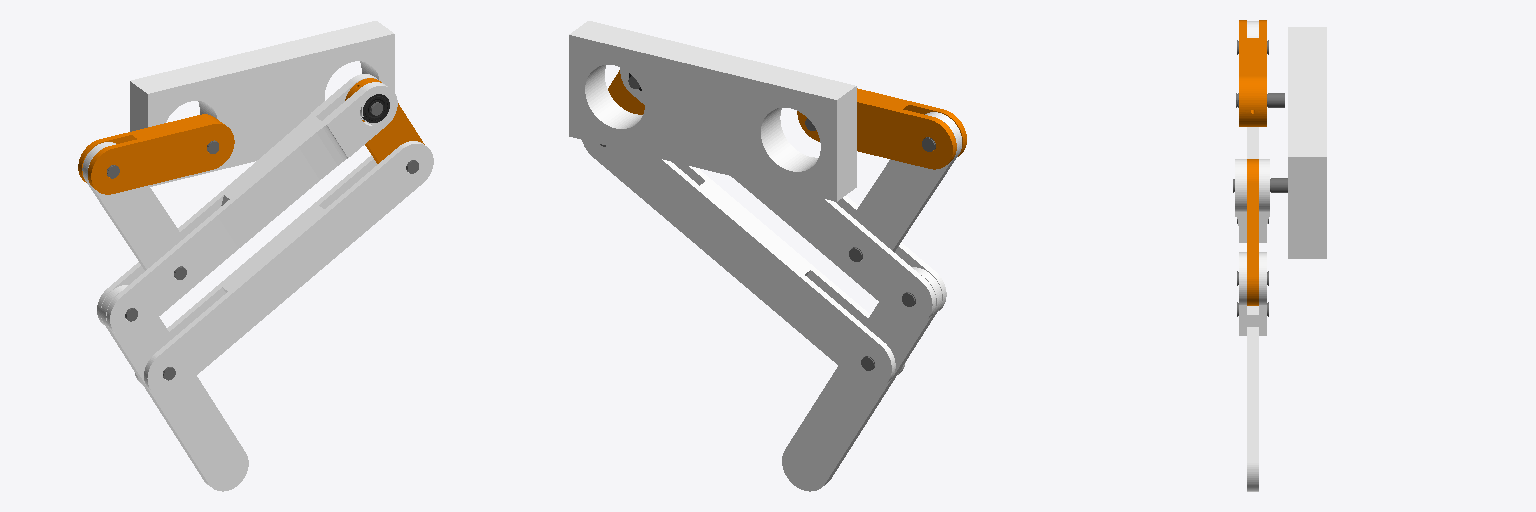
--- Render facts (derived) ---
The picture shows the robot from 3 angles, left to right: view 1: azimuth 30°, elevation 25°; view 2: azimuth 150°, elevation 25°; view 3: azimuth 270°, elevation 25°; orthographic projection.
Model catbot with 32 links and 31 joints (3 revolute, 3 continuous, 25 fixed), rooted at part_1, posed all joints at 0.
Visible links, largest first — view 1: lower_thigh_lower_thigh, upper_thigh_upper_thigh, part_1_part_1, upper_link_1_upper_link_1, shin_shin, upper_link_2_upper_link_2, lower_to_upper_thigh_connector_lower_to_upper_thigh_connector; view 2: part_1_part_1, lower_thigh_lower_thigh, upper_thigh_upper_thigh, shin_shin, upper_link_1_upper_link_1, upper_link_2_upper_link_2, lower_to_upper_thigh_connector_lower_to_upper_thigh_connector; view 3: part_1_part_1, upper_link_1_upper_link_1, shin_shin, upper_thigh_upper_thigh, lower_to_upper_thigh_connector_lower_to_upper_thigh_connector, lower_thigh_lower_thigh, upper_link_2_upper_link_2.
Boxes of the visible links, x1,y1,x2,y2 form: lower_thigh_lower_thigh: (135, 141, 433, 395); upper_thigh_upper_thigh: (97, 74, 397, 336); part_1_part_1: (130, 21, 394, 186); upper_link_1_upper_link_1: (78, 114, 234, 194); shin_shin: (101, 285, 248, 491); upper_link_2_upper_link_2: (82, 142, 183, 270); lower_to_upper_thigh_connector_lower_to_upper_thigh_connector: (345, 78, 424, 163); part_1_part_1: (569, 21, 856, 201); lower_thigh_lower_thigh: (582, 140, 905, 387); upper_thigh_upper_thigh: (620, 67, 946, 323); shin_shin: (782, 267, 941, 491); upper_link_1_upper_link_1: (797, 88, 966, 169); upper_link_2_upper_link_2: (852, 112, 961, 251); lower_to_upper_thigh_connector_lower_to_upper_thigh_connector: (608, 70, 644, 114); part_1_part_1: (1288, 27, 1326, 258); upper_link_1_upper_link_1: (1239, 20, 1266, 126); shin_shin: (1247, 327, 1258, 491); upper_thigh_upper_thigh: (1235, 159, 1269, 242); lower_to_upper_thigh_connector_lower_to_upper_thigh_connector: (1247, 159, 1258, 305); lower_thigh_lower_thigh: (1239, 252, 1266, 335); upper_link_2_upper_link_2: (1247, 21, 1258, 158).
Size in the robot's own frame: 0.274 by 0.0601 by 0.3043 metres.
21 mesh visuals loaded from 11 distinct referenced files (11 binary STL).

URDF robot description (catbot):
<?xml version="1.0" ?>
<!-- Generated using onshape-to-robot -->
<!-- Onshape https://ricerobotics.onshape.com/documents/113d96fdef4adb1a3716524e/w/28f7dad7c74d67852509cca5/e/a5f92556bc33e188cf7c0d25 -->
<robot name="catbot">
    <!-- Link part_1 -->
    <link name="part_1">
        <inertial>
            <origin xyz="0 0 0" rpy="0 0 0"/>
            <mass value="1e-09"/>
            <inertia ixx="1e-09" ixy="0" ixz="0" iyy="1e-09" iyz="0" izz="1e-09"/>
        </inertial>
    </link>
    <!-- Link upper_link_1 -->
    <link name="upper_link_1">
        <inertial>
            <origin xyz="0 0 0" rpy="0 0 0"/>
            <mass value="1e-09"/>
            <inertia ixx="1e-09" ixy="0" ixz="0" iyy="1e-09" iyz="0" izz="1e-09"/>
        </inertial>
    </link>
    <!-- Link upper_link_2 -->
    <link name="upper_link_2">
        <inertial>
            <origin xyz="0 0 0" rpy="0 0 0"/>
            <mass value="1e-09"/>
            <inertia ixx="1e-09" ixy="0" ixz="0" iyy="1e-09" iyz="0" izz="1e-09"/>
        </inertial>
    </link>
    <!-- Frame closing_passive5_1 (dummy link + fixed joint) -->
    <link name="closing_passive5_1">
        <origin xyz="0 0 0" rpy="0 -0 0"/>
        <inertial>
            <origin xyz="0 0 0" rpy="0 0 0"/>
            <mass value="1e-9"/>
            <inertia ixx="0" ixy="0" ixz="0" iyy="0" iyz="0" izz="0"/>
        </inertial>
    </link>
    <joint name="closing_passive5_1_frame" type="fixed">
        <origin xyz="-6.64399e-16 -0.105 3.52948e-16" rpy="2.02456e-16 2.9476e-17 -1.5708"/>
        <parent link="upper_link_2"/>
        <child link="closing_passive5_1"/>
        <axis xyz="0 0 0"/>
    </joint>
    <!-- Link upper_link_2_grainger_35jc77 -->
    <link name="upper_link_2_grainger_35jc77">
        <inertial>
            <origin xyz="0 0 0" rpy="0 0 0"/>
            <mass value="1e-09"/>
            <inertia ixx="1e-09" ixy="0" ixz="0" iyy="1e-09" iyz="0" izz="1e-09"/>
        </inertial>
        <!-- Part grainger_35jc77 -->
        <visual>
            <origin xyz="-2.94903e-17 0 0" rpy="-1.2326e-32 -1.84889e-32 -5.55112e-17"/>
            <geometry>
                <mesh filename="package://catbot_pybullet/meshes/grainger_35jc77.stl"/>
            </geometry>
            <material name="grainger_35jc77_material">
                <color rgba="0.203922 0.203922 0.203922 1.0"/>
            </material>
        </visual>
        <collision>
            <origin xyz="-2.94903e-17 0 0" rpy="-1.2326e-32 -1.84889e-32 -5.55112e-17"/>
            <geometry>
                <mesh filename="package://catbot_pybullet/meshes/grainger_35jc77.stl"/>
            </geometry>
        </collision>
    </link>
    <!-- Joint from upper_link_2 to upper_link_2_grainger_35jc77 -->
    <joint name="upper_link_2_grainger_35jc77_fixed" type="fixed">
        <origin xyz="-1.21431e-17 0 -0.0091" rpy="8.30319e-17 -1.29878e-16 2.22045e-16"/>
        <parent link="upper_link_2"/>
        <child link="upper_link_2_grainger_35jc77"/>
        <axis xyz="0 0 1"/>
        <limit effort="10" velocity="10"/>
    </joint>
    <!-- Link upper_link_2_grainger_35jc77_2 -->
    <link name="upper_link_2_grainger_35jc77_2">
        <inertial>
            <origin xyz="0 0 0" rpy="0 0 0"/>
            <mass value="1e-09"/>
            <inertia ixx="1e-09" ixy="0" ixz="0" iyy="1e-09" iyz="0" izz="1e-09"/>
        </inertial>
        <!-- Part grainger_35jc77_2 -->
        <visual>
            <origin xyz="-1.38778e-17 0 0" rpy="0 -0 5.55112e-17"/>
            <geometry>
                <mesh filename="package://catbot_pybullet/meshes/grainger_35jc77.stl"/>
            </geometry>
            <material name="grainger_35jc77_2_material">
                <color rgba="0.203922 0.203922 0.203922 1.0"/>
            </material>
        </visual>
        <collision>
            <origin xyz="-1.38778e-17 0 0" rpy="0 -0 5.55112e-17"/>
            <geometry>
                <mesh filename="package://catbot_pybullet/meshes/grainger_35jc77.stl"/>
            </geometry>
        </collision>
    </link>
    <!-- Joint from upper_link_2 to upper_link_2_grainger_35jc77_2 -->
    <joint name="upper_link_2_grainger_35jc77_2_fixed" type="fixed">
        <origin xyz="-6.64399e-16 -0.105 -0.0091" rpy="-7.17371e-18 -9.17139e-17 -3.88578e-16"/>
        <parent link="upper_link_2"/>
        <child link="upper_link_2_grainger_35jc77_2"/>
        <axis xyz="0 0 1"/>
        <limit effort="10" velocity="10"/>
    </joint>
    <!-- Link upper_link_2_pins -->
    <link name="upper_link_2_pins">
        <inertial>
            <origin xyz="2.77556e-17 -0.0105 -6.56111e-18" rpy="0 0 0"/>
            <mass value="0.0115862"/>
            <inertia ixx="4.8246e-07" ixy="-3.20447e-39" ixz="2.67819e-23" iyy="1.29989e-07" iyz="6.74789e-39" izz="4.8246e-07"/>
        </inertial>
        <!-- Part pins -->
        <visual>
            <origin xyz="2.77556e-17 0 -6.93889e-18" rpy="6.16298e-33 -0 0"/>
            <geometry>
                <mesh filename="package://catbot_pybullet/meshes/pins.stl"/>
            </geometry>
            <material name="pins_material">
                <color rgba="0.498039 0.498039 0.498039 1.0"/>
            </material>
        </visual>
        <collision>
            <origin xyz="2.77556e-17 0 -6.93889e-18" rpy="6.16298e-33 -0 0"/>
            <geometry>
                <mesh filename="package://catbot_pybullet/meshes/pins.stl"/>
            </geometry>
        </collision>
    </link>
    <!-- Joint from upper_link_2 to upper_link_2_pins -->
    <joint name="upper_link_2_pins_fixed" type="fixed">
        <origin xyz="-6.64399e-16 -0.105 0.0014" rpy="1.5708 2.9476e-17 -1.5708"/>
        <parent link="upper_link_2"/>
        <child link="upper_link_2_pins"/>
        <axis xyz="0 0 1"/>
        <limit effort="10" velocity="10"/>
    </joint>
    <!-- Link upper_link_2_upper_link_2 -->
    <link name="upper_link_2_upper_link_2">
        <inertial>
            <origin xyz="9.80159e-18 -0.00357124 2.17453e-17" rpy="0 0 0"/>
            <mass value="0.0328541"/>
            <inertia ixx="3.65189e-06" ixy="-1.23455e-36" ixz="-4.57734e-21" iyy="4.27756e-05" iyz="1.0545e-36" izz="3.94031e-05"/>
        </inertial>
        <!-- Part upper_link_2 -->
        <visual>
            <origin xyz="2.77556e-17 0 1.73472e-17" rpy="2.46519e-32 5.55112e-17 -4.93038e-32"/>
            <geometry>
                <mesh filename="package://catbot_pybullet/meshes/upper_link_2.stl"/>
            </geometry>
            <material name="upper_link_2_material">
                <color rgba="1 1 1 1.0"/>
            </material>
        </visual>
        <collision>
            <origin xyz="2.77556e-17 0 1.73472e-17" rpy="2.46519e-32 5.55112e-17 -4.93038e-32"/>
            <geometry>
                <mesh filename="package://catbot_pybullet/meshes/upper_link_2.stl"/>
            </geometry>
        </collision>
    </link>
    <!-- Joint from upper_link_2 to upper_link_2_upper_link_2 -->
    <joint name="upper_link_2_upper_link_2_fixed" type="fixed">
        <origin xyz="-3.17454e-16 -0.0525 -0.00552876" rpy="1.5708 -1.5289e-16 -1.5708"/>
        <parent link="upper_link_2"/>
        <child link="upper_link_2_upper_link_2"/>
        <axis xyz="0 0 1"/>
        <limit effort="10" velocity="10"/>
    </joint>
    <!-- Link upper_link_2_pins_2 -->
    <link name="upper_link_2_pins_2">
        <inertial>
            <origin xyz="-1.38778e-17 -0.0105 3.77784e-19" rpy="0 0 0"/>
            <mass value="0.0115862"/>
            <inertia ixx="4.8246e-07" ixy="1.14314e-38" ixz="0" iyy="1.29989e-07" iyz="-1.5098e-38" izz="4.8246e-07"/>
        </inertial>
        <!-- Part pins_2 -->
        <visual>
            <origin xyz="-1.38778e-17 0 0" rpy="-2.46519e-32 5.55112e-17 3.69779e-32"/>
            <geometry>
                <mesh filename="package://catbot_pybullet/meshes/pins.stl"/>
            </geometry>
            <material name="pins_2_material">
                <color rgba="0.498039 0.498039 0.498039 1.0"/>
            </material>
        </visual>
        <collision>
            <origin xyz="-1.38778e-17 0 0" rpy="-2.46519e-32 5.55112e-17 3.69779e-32"/>
            <geometry>
                <mesh filename="package://catbot_pybullet/meshes/pins.stl"/>
            </geometry>
        </collision>
    </link>
    <!-- Joint from upper_link_2 to upper_link_2_pins_2 -->
    <joint name="upper_link_2_pins_2_fixed" type="fixed">
        <origin xyz="-1.21431e-17 0 -0.0196" rpy="-1.5708 3.69779e-32 -5.55112e-17"/>
        <parent link="upper_link_2"/>
        <child link="upper_link_2_pins_2"/>
        <axis xyz="0 0 1"/>
        <limit effort="10" velocity="10"/>
    </joint>
    <!-- Joint from upper_link_1 to upper_link_2 -->
    <joint name="passive6" type="continuous">
        <origin xyz="8.32667e-17 -0.08 0.0298" rpy="8.7803e-17 1.71793e-16 2.10804"/>
        <parent link="upper_link_1"/>
        <child link="upper_link_2"/>
        <axis xyz="0 0 1"/>
        <limit effort="10" velocity="10"/>
        <joint_properties friction="0.0"/>
    </joint>
    <!-- Link upper_link_1_upper_link_1 -->
    <link name="upper_link_1_upper_link_1">
        <inertial>
            <origin xyz="0.00740119 -0.009 -0.000694539" rpy="0 0 0"/>
            <mass value="0.051287"/>
            <inertia ixx="6.73493e-06" ixy="1.38839e-14" ixz="-1.45044e-07" iyy="5.13983e-05" iyz="-1.39843e-15" izz="4.81368e-05"/>
        </inertial>
        <!-- Part upper_link_1 -->
        <visual>
            <origin xyz="0 0 0" rpy="0 -0 -3.8538e-33"/>
            <geometry>
                <mesh filename="package://catbot_pybullet/meshes/upper_link_1.stl"/>
            </geometry>
            <material name="upper_link_1_material">
                <color rgba="0.972549 0.529412 0.00392157 1.0"/>
            </material>
        </visual>
        <collision>
            <origin xyz="0 0 0" rpy="0 -0 -3.8538e-33"/>
            <geometry>
                <mesh filename="package://catbot_pybullet/meshes/upper_link_1.stl"/>
            </geometry>
        </collision>
    </link>
    <!-- Joint from upper_link_1 to upper_link_1_upper_link_1 -->
    <joint name="upper_link_1_upper_link_1_fixed" type="fixed">
        <origin xyz="8.32667e-17 -0.04 0.0297" rpy="1.5708 5.13253e-17 1.5708"/>
        <parent link="upper_link_1"/>
        <child link="upper_link_1_upper_link_1"/>
        <axis xyz="0 0 1"/>
        <limit effort="10" velocity="10"/>
    </joint>
    <!-- Link upper_link_1_d_shaft_upper_motor -->
    <link name="upper_link_1_d_shaft_upper_motor">
        <inertial>
            <origin xyz="-7.68708e-21 -0.00381957 -0.000101825" rpy="0 0 0"/>
            <mass value="0.0169769"/>
            <inertia ixx="1.49221e-06" ixy="0" ixz="0" iyy="1.88178e-07" iyz="-9.51745e-09" izz="1.49914e-06"/>
        </inertial>
        <!-- Part d_shaft_upper_motor -->
        <visual>
            <origin xyz="0 0 0" rpy="2.88143e-33 -0 0"/>
            <geometry>
                <mesh filename="package://catbot_pybullet/meshes/d_shaft_upper_motor.stl"/>
            </geometry>
            <material name="d_shaft_upper_motor_material">
                <color rgba="0.498039 0.498039 0.498039 1.0"/>
            </material>
        </visual>
        <collision>
            <origin xyz="0 0 0" rpy="2.88143e-33 -0 0"/>
            <geometry>
                <mesh filename="package://catbot_pybullet/meshes/d_shaft_upper_motor.stl"/>
            </geometry>
        </collision>
    </link>
    <!-- Joint from upper_link_1 to upper_link_1_d_shaft_upper_motor -->
    <joint name="upper_link_1_d_shaft_upper_motor_fixed" type="fixed">
        <origin xyz="0 0 0.0117" rpy="-1.5708 -0 0"/>
        <parent link="upper_link_1"/>
        <child link="upper_link_1_d_shaft_upper_motor"/>
        <axis xyz="0 0 1"/>
        <limit effort="10" velocity="10"/>
    </joint>
    <!-- Joint from part_1 to upper_link_1 -->
    <joint name="motor1" type="revolute">
        <origin xyz="-0.0728365 0.0296822 0.227745" rpy="1.5708 1.5708 0"/>
        <parent link="part_1"/>
        <child link="upper_link_1"/>
        <axis xyz="0 0 1"/>
        <limit effort="50" velocity="50" lower="-0.780544" upper="1.96935"/>
        <joint_properties friction="0.0"/>
    </joint>
    <!-- Link lower_to_upper_thigh_connector -->
    <link name="lower_to_upper_thigh_connector">
        <inertial>
            <origin xyz="0 0 0" rpy="0 0 0"/>
            <mass value="1e-09"/>
            <inertia ixx="1e-09" ixy="0" ixz="0" iyy="1e-09" iyz="0" izz="1e-09"/>
        </inertial>
    </link>
    <!-- Link lower_thigh -->
    <link name="lower_thigh">
        <inertial>
            <origin xyz="0 0 0" rpy="0 0 0"/>
            <mass value="1e-09"/>
            <inertia ixx="1e-09" ixy="0" ixz="0" iyy="1e-09" iyz="0" izz="1e-09"/>
        </inertial>
    </link>
    <!-- Frame closing_passive3_2 (dummy link + fixed joint) -->
    <link name="closing_passive3_2">
        <origin xyz="0 0 0" rpy="0 -0 0"/>
        <inertial>
            <origin xyz="0 0 0" rpy="0 0 0"/>
            <mass value="1e-9"/>
            <inertia ixx="0" ixy="0" ixz="0" iyy="0" iyz="0" izz="0"/>
        </inertial>
    </link>
    <joint name="closing_passive3_2_frame" type="fixed">
        <origin xyz="0.000192277 -0.225 -2.24091e-16" rpy="3.14159 -1.26729e-15 1.57165"/>
        <parent link="lower_thigh"/>
        <child link="closing_passive3_2"/>
        <axis xyz="0 0 0"/>
    </joint>
    <!-- Link lower_thigh_lower_thigh -->
    <link name="lower_thigh_lower_thigh">
        <inertial>
            <origin xyz="-4.71887e-17 -0.009 1.42786e-17" rpy="0 0 0"/>
            <mass value="0.135358"/>
            <inertia ixx="1.79506e-05" ixy="6.83199e-36" ixz="9.9646e-22" iyy="0.000572228" iyz="1.39025e-35" izz="0.000563951"/>
        </inertial>
        <!-- Part lower_thigh -->
        <visual>
            <origin xyz="0 -3.38813e-21 1.38778e-17" rpy="0 -5.55112e-17 -1.2326e-32"/>
            <geometry>
                <mesh filename="package://catbot_pybullet/meshes/lower_thigh.stl"/>
            </geometry>
            <material name="lower_thigh_material">
                <color rgba="1 1 1 1.0"/>
            </material>
        </visual>
        <collision>
            <origin xyz="0 -3.38813e-21 1.38778e-17" rpy="0 -5.55112e-17 -1.2326e-32"/>
            <geometry>
                <mesh filename="package://catbot_pybullet/meshes/lower_thigh.stl"/>
            </geometry>
        </collision>
    </link>
    <!-- Joint from lower_thigh to lower_thigh_lower_thigh -->
    <joint name="lower_thigh_lower_thigh_fixed" type="fixed">
        <origin xyz="9.61386e-05 -0.1125 0.0001" rpy="-1.5708 1.26729e-15 -1.56994"/>
        <parent link="lower_thigh"/>
        <child link="lower_thigh_lower_thigh"/>
        <axis xyz="0 0 1"/>
        <limit effort="10" velocity="10"/>
    </joint>
    <!-- Joint from lower_to_upper_thigh_connector to lower_thigh -->
    <joint name="passive1" type="continuous">
        <origin xyz="-0.000995748 -0.060184 0.0315252" rpy="3.14159 -6.63175e-16 1.55604"/>
        <parent link="lower_to_upper_thigh_connector"/>
        <child link="lower_thigh"/>
        <axis xyz="0 0 1"/>
        <limit effort="10" velocity="10"/>
        <joint_properties friction="0.0"/>
    </joint>
    <!-- Link upper_thigh -->
    <link name="upper_thigh">
        <inertial>
            <origin xyz="0 0 0" rpy="0 0 0"/>
            <mass value="1e-09"/>
            <inertia ixx="1e-09" ixy="0" ixz="0" iyy="1e-09" iyz="0" izz="1e-09"/>
        </inertial>
    </link>
    <!-- Frame closing_passive5_2 (dummy link + fixed joint) -->
    <link name="closing_passive5_2">
        <origin xyz="0 0 0" rpy="0 -0 0"/>
        <inertial>
            <origin xyz="0 0 0" rpy="0 0 0"/>
            <mass value="1e-9"/>
            <inertia ixx="0" ixy="0" ixz="0" iyy="0" iyz="0" izz="0"/>
        </inertial>
    </link>
    <joint name="closing_passive5_2_frame" type="fixed">
        <origin xyz="-0.17998 -0.00265599 -0.0262503" rpy="-3.14159 -8.56631e-16 1.58555"/>
        <parent link="upper_thigh"/>
        <child link="closing_passive5_2"/>
        <axis xyz="0 0 0"/>
    </joint>
    <!-- Link shin -->
    <link name="shin">
        <inertial>
            <origin xyz="0 0 0" rpy="0 0 0"/>
            <mass value="1e-09"/>
            <inertia ixx="1e-09" ixy="0" ixz="0" iyy="1e-09" iyz="0" izz="1e-09"/>
        </inertial>
    </link>
    <!-- Frame closing_passive3_1 (dummy link + fixed joint) -->
    <link name="closing_passive3_1">
        <origin xyz="0 0 0" rpy="0 -0 0"/>
        <inertial>
            <origin xyz="0 0 0" rpy="0 0 0"/>
            <mass value="1e-9"/>
            <inertia ixx="0" ixy="0" ixz="0" iyy="0" iyz="0" izz="0"/>
        </inertial>
    </link>
    <joint name="closing_passive3_1_frame" type="fixed">
        <origin xyz="-0.06 -7.63278e-17 -1.14478e-16" rpy="1.07493e-16 3.1225e-16 -1.5708"/>
        <parent link="shin"/>
        <child link="closing_passive3_1"/>
        <axis xyz="0 0 0"/>
    </joint>
    <!-- Link shin_grainger_35jc77_6 -->
    <link name="shin_grainger_35jc77_6">
        <inertial>
            <origin xyz="0 0 0" rpy="0 0 0"/>
            <mass value="1e-09"/>
            <inertia ixx="1e-09" ixy="0" ixz="0" iyy="1e-09" iyz="0" izz="1e-09"/>
        </inertial>
        <!-- Part grainger_35jc77_6 -->
        <visual>
            <origin xyz="1.38778e-17 1.38778e-17 -1.73472e-18" rpy="-2.46519e-32 -0 -5.55112e-17"/>
            <geometry>
                <mesh filename="package://catbot_pybullet/meshes/grainger_35jc77.stl"/>
            </geometry>
            <material name="grainger_35jc77_6_material">
                <color rgba="0.203922 0.203922 0.203922 1.0"/>
            </material>
        </visual>
        <collision>
            <origin xyz="1.38778e-17 1.38778e-17 -1.73472e-18" rpy="-2.46519e-32 -0 -5.55112e-17"/>
            <geometry>
                <mesh filename="package://catbot_pybullet/meshes/grainger_35jc77.stl"/>
            </geometry>
        </collision>
    </link>
    <!-- Joint from shin to shin_grainger_35jc77_6 -->
    <joint name="shin_grainger_35jc77_6_fixed" type="fixed">
        <origin xyz="-0.06 -7.63278e-17 -0.0091" rpy="-3.1225e-16 7.97973e-17 3.14159"/>
        <parent link="shin"/>
        <child link="shin_grainger_35jc77_6"/>
        <axis xyz="0 0 1"/>
        <limit effort="10" velocity="10"/>
    </joint>
    <!-- Link shin_pins_4 -->
    <link name="shin_pins_4">
        <inertial>
            <origin xyz="1.38778e-17 -0.0105 3.77784e-19" rpy="0 0 0"/>
            <mass value="0.0115862"/>
            <inertia ixx="4.8246e-07" ixy="3.20447e-39" ixz="-2.67819e-23" iyy="1.29989e-07" iyz="-6.40894e-39" izz="4.8246e-07"/>
        </inertial>
        <!-- Part pins_4 -->
        <visual>
            <origin xyz="1.38778e-17 0 0" rpy="-4.93038e-32 -0 0"/>
            <geometry>
                <mesh filename="package://catbot_pybullet/meshes/pins.stl"/>
            </geometry>
            <material name="pins_4_material">
                <color rgba="0.498039 0.498039 0.498039 1.0"/>
            </material>
        </visual>
        <collision>
            <origin xyz="1.38778e-17 0 0" rpy="-4.93038e-32 -0 0"/>
            <geometry>
                <mesh filename="package://catbot_pybullet/meshes/pins.stl"/>
            </geometry>
        </collision>
    </link>
    <!-- Joint from shin to shin_pins_4 -->
    <joint name="shin_pins_4_fixed" type="fixed">
        <origin xyz="-0.06 -7.63278e-17 0.0014" rpy="1.5708 3.1225e-16 -1.5708"/>
        <parent link="shin"/>
        <child link="shin_pins_4"/>
        <axis xyz="0 0 1"/>
        <limit effort="10" velocity="10"/>
    </joint>
    <!-- Link shin_shin -->
    <link name="shin_shin">
        <inertial>
            <origin xyz="0.00749667 -0.00357124 3.17511e-08" rpy="0 0 0"/>
            <mass value="0.049659"/>
            <inertia ixx="5.3636e-06" ixy="7.11797e-36" ixz="1.12935e-10" iyy="0.00014437" iyz="2.18564e-13" izz="0.000139428"/>
        </inertial>
        <!-- Part shin -->
        <visual>
            <origin xyz="0 0 0" rpy="0 -0 0"/>
            <geometry>
                <mesh filename="package://catbot_pybullet/meshes/shin.stl"/>
            </geometry>
            <material name="shin_material">
                <color rgba="1 1 1 1.0"/>
            </material>
        </visual>
        <collision>
            <origin xyz="0 0 0" rpy="0 -0 0"/>
            <geometry>
                <mesh filename="package://catbot_pybullet/meshes/shin.stl"/>
            </geometry>
        </collision>
    </link>
    <!-- Joint from shin to shin_shin -->
    <joint name="shin_shin_fixed" type="fixed">
        <origin xyz="-0.08 -4.16334e-17 -0.0126712" rpy="-1.5708 1.37732e-16 -3.14159"/>
        <parent link="shin"/>
        <child link="shin_shin"/>
        <axis xyz="0 0 1"/>
        <limit effort="10" velocity="10"/>
    </joint>
    <!-- Link shin_pins_5 -->
    <link name="shin_pins_5">
        <inertial>
            <origin xyz="1.29422e-34 -0.0105 3.77784e-19" rpy="0 0 0"/>
            <mass value="0.0115862"/>
            <inertia ixx="4.8246e-07" ixy="2.21849e-38" ixz="0" iyy="1.29989e-07" iyz="5.94677e-39" izz="4.8246e-07"/>
        </inertial>
        <!-- Part pins_5 -->
        <visual>
            <origin xyz="0 0 0" rpy="0 -0 4.93038e-32"/>
            <geometry>
                <mesh filename="package://catbot_pybullet/meshes/pins.stl"/>
            </geometry>
            <material name="pins_5_material">
                <color rgba="0.498039 0.498039 0.498039 1.0"/>
            </material>
        </visual>
        <collision>
            <origin xyz="0 0 0" rpy="0 -0 4.93038e-32"/>
            <geometry>
                <mesh filename="package://catbot_pybullet/meshes/pins.stl"/>
            </geometry>
        </collision>
    </link>
    <!-- Joint from shin to shin_pins_5 -->
    <joint name="shin_pins_5_fixed" type="fixed">
        <origin xyz="0 0 0.0014" rpy="1.5708 -4.93038e-32 0"/>
        <parent link="shin"/>
        <child link="shin_pins_5"/>
        <axis xyz="0 0 1"/>
        <limit effort="10" velocity="10"/>
    </joint>
    <!-- Link shin_grainger_35jc77_7 -->
    <link name="shin_grainger_35jc77_7">
        <inertial>
            <origin xyz="0 0 0" rpy="0 0 0"/>
            <mass value="1e-09"/>
            <inertia ixx="1e-09" ixy="0" ixz="0" iyy="1e-09" iyz="0" izz="1e-09"/>
        </inertial>
        <!-- Part grainger_35jc77_7 -->
        <visual>
            <origin xyz="2.77556e-17 6.93889e-18 0" rpy="1.2326e-32 4.93038e-32 -5.55112e-17"/>
            <geometry>
                <mesh filename="package://catbot_pybullet/meshes/grainger_35jc77.stl"/>
            </geometry>
            <material name="grainger_35jc77_7_material">
                <color rgba="0.203922 0.203922 0.203922 1.0"/>
            </material>
        </visual>
        <collision>
            <origin xyz="2.77556e-17 6.93889e-18 0" rpy="1.2326e-32 4.93038e-32 -5.55112e-17"/>
            <geometry>
                <mesh filename="package://catbot_pybullet/meshes/grainger_35jc77.stl"/>
            </geometry>
        </collision>
    </link>
    <!-- Joint from shin to shin_grainger_35jc77_7 -->
    <joint name="shin_grainger_35jc77_7_fixed" type="fixed">
        <origin xyz="0 0 -0.0091" rpy="-2.01228e-16 1.04083e-16 -3.14159"/>
        <parent link="shin"/>
        <child link="shin_grainger_35jc77_7"/>
        <axis xyz="0 0 1"/>
        <limit effort="10" velocity="10"/>
    </joint>
    <!-- Joint from upper_thigh to shin -->
    <joint name="passive2" type="continuous">
        <origin xyz="-0.224976 -0.00331998 -0.0262503" rpy="-3.14159 2.5947e-16 -1.55425"/>
        <parent link="upper_thigh"/>
        <child link="shin"/>
        <axis xyz="0 0 1"/>
        <limit effort="10" velocity="10"/>
        <joint_properties friction="0.0"/>
    </joint>
    <!-- Link upper_thigh_upper_thigh -->
    <link name="upper_thigh_upper_thigh">
        <inertial>
            <origin xyz="-0.105229 -0.00899999 -3.51128e-18" rpy="0 0 0"/>
            <mass value="0.139251"/>
            <inertia ixx="1.95402e-05" ixy="-9.54797e-11" ixz="2.88727e-06" iyy="0.00060243" iyz="4.60305e-13" izz="0.000594137"/>
        </inertial>
        <!-- Part upper_thigh -->
        <visual>
            <origin xyz="2.77556e-17 -3.38813e-21 0" rpy="0 -5.55112e-17 0"/>
            <geometry>
                <mesh filename="package://catbot_pybullet/meshes/upper_thigh.stl"/>
            </geometry>
            <material name="upper_thigh_material">
                <color rgba="1 1 1 1.0"/>
            </material>
        </visual>
        <collision>
            <origin xyz="2.77556e-17 -3.38813e-21 0" rpy="0 -5.55112e-17 0"/>
            <geometry>
                <mesh filename="package://catbot_pybullet/meshes/upper_thigh.stl"/>
            </geometry>
        </collision>
    </link>
    <!-- Joint from upper_thigh to upper_thigh_upper_thigh -->
    <joint name="upper_thigh_upper_thigh_fixed" type="fixed">
        <origin xyz="5.55112e-17 2.77556e-17 -0.0261503" rpy="-1.5708 2.72047e-16 0.014756"/>
        <parent link="upper_thigh"/>
        <child link="upper_thigh_upper_thigh"/>
        <axis xyz="0 0 1"/>
        <limit effort="10" velocity="10"/>
    </joint>
    <!-- Link upper_thigh_grainger_35jc77_4 -->
    <link name="upper_thigh_grainger_35jc77_4">
        <inertial>
            <origin xyz="0 0 0" rpy="0 0 0"/>
            <mass value="1e-09"/>
            <inertia ixx="1e-09" ixy="0" ixz="0" iyy="1e-09" iyz="0" izz="1e-09"/>
        </inertial>
        <!-- Part grainger_35jc77_4 -->
        <visual>
            <origin xyz="2.77556e-17 0 0" rpy="9.86076e-32 9.86076e-32 0"/>
            <geometry>
                <mesh filename="package://catbot_pybullet/meshes/grainger_35jc77.stl"/>
            </geometry>
            <material name="grainger_35jc77_4_material">
                <color rgba="0.203922 0.203922 0.203922 1.0"/>
            </material>
        </visual>
        <collision>
            <origin xyz="2.77556e-17 0 0" rpy="9.86076e-32 9.86076e-32 0"/>
            <geometry>
                <mesh filename="package://catbot_pybullet/meshes/grainger_35jc77.stl"/>
            </geometry>
        </collision>
    </link>
    <!-- Joint from upper_thigh to upper_thigh_grainger_35jc77_4 -->
    <joint name="upper_thigh_grainger_35jc77_4_fixed" type="fixed">
        <origin xyz="5.55112e-17 2.77556e-17 -0.0247928" rpy="-3.14159 2.72047e-16 0.014756"/>
        <parent link="upper_thigh"/>
        <child link="upper_thigh_grainger_35jc77_4"/>
        <axis xyz="0 0 1"/>
        <limit effort="10" velocity="10"/>
    </joint>
    <!-- Link upper_thigh_grainger_35jc77_5 -->
    <link name="upper_thigh_grainger_35jc77_5">
        <inertial>
            <origin xyz="0 0 0" rpy="0 0 0"/>
            <mass value="1e-09"/>
            <inertia ixx="1e-09" ixy="0" ixz="0" iyy="1e-09" iyz="0" izz="1e-09"/>
        </inertial>
        <!-- Part grainger_35jc77_5 -->
        <visual>
            <origin xyz="0 0 0" rpy="2.46519e-32 -0 0"/>
            <geometry>
                <mesh filename="package://catbot_pybullet/meshes/grainger_35jc77.stl"/>
            </geometry>
            <material name="grainger_35jc77_5_material">
                <color rgba="0.203922 0.203922 0.203922 1.0"/>
            </material>
        </visual>
        <collision>
            <origin xyz="0 0 0" rpy="2.46519e-32 -0 0"/>
            <geometry>
                <mesh filename="package://catbot_pybullet/meshes/grainger_35jc77.stl"/>
            </geometry>
        </collision>
    </link>
    <!-- Joint from upper_thigh to upper_thigh_grainger_35jc77_5 -->
    <joint name="upper_thigh_grainger_35jc77_5_fixed" type="fixed">
        <origin xyz="5.55112e-17 2.77556e-17 -0.00950784" rpy="-3.14159 4.11437e-16 -1.55604"/>
        <parent link="upper_thigh"/>
        <child link="upper_thigh_grainger_35jc77_5"/>
        <axis xyz="0 0 1"/>
        <limit effort="10" velocity="10"/>
    </joint>
    <!-- Joint from lower_to_upper_thigh_connector to upper_thigh -->
    <joint name="passive4" type="revolute">
        <origin xyz="0 0 0.00527485" rpy="3.14159 1.72563e-31 0"/>
        <parent link="lower_to_upper_thigh_connector"/>
        <child link="upper_thigh"/>
        <axis xyz="0 0 1"/>
        <limit effort="10" velocity="10" lower="-0.958899" upper="0.958899"/>
        <joint_properties friction="0.0"/>
    </joint>
    <!-- Link lower_to_upper_thigh_connector_grainger_35jc77_3 -->
    <link name="lower_to_upper_thigh_connector_grainger_35jc77_3">
        <inertial>
            <origin xyz="0 0 0" rpy="0 0 0"/>
            <mass value="1e-09"/>
            <inertia ixx="1e-09" ixy="0" ixz="0" iyy="1e-09" iyz="0" izz="1e-09"/>
        </inertial>
        <!-- Part grainger_35jc77_3 -->
        <visual>
            <origin xyz="5.55112e-17 0 -1.73472e-18" rpy="0 9.86076e-32 0"/>
            <geometry>
                <mesh filename="package://catbot_pybullet/meshes/grainger_35jc77.stl"/>
            </geometry>
            <material name="grainger_35jc77_3_material">
                <color rgba="0.203922 0.203922 0.203922 1.0"/>
            </material>
        </visual>
        <collision>
            <origin xyz="5.55112e-17 0 -1.73472e-18" rpy="0 9.86076e-32 0"/>
            <geometry>
                <mesh filename="package://catbot_pybullet/meshes/grainger_35jc77.stl"/>
            </geometry>
        </collision>
    </link>
    <!-- Joint from lower_to_upper_thigh_connector to lower_to_upper_thigh_connector_grainger_35jc77_3 -->
    <joint name="lower_to_upper_thigh_connector_grainger_35jc77_3_fixed" type="fixed">
        <origin xyz="-0.000995748 -0.060184 0.0224252" rpy="-8.20465e-16 5.49234e-16 3.12684"/>
        <parent link="lower_to_upper_thigh_connector"/>
        <child link="lower_to_upper_thigh_connector_grainger_35jc77_3"/>
        <axis xyz="0 0 1"/>
        <limit effort="10" velocity="10"/>
    </joint>
    <!-- Link lower_to_upper_thigh_connector_d_shaft_lower_motor -->
    <link name="lower_to_upper_thigh_connector_d_shaft_lower_motor">
        <inertial>
            <origin xyz="-2.99252e-17 -7.59981e-05 -0.016046" rpy="0 0 0"/>
            <mass value="0.0183559"/>
            <inertia ixx="1.98047e-06" ixy="-1.10238e-22" ixz="-6.3663e-25" iyy="1.98587e-06" iyz="1.14685e-08" izz="1.96447e-07"/>
        </inertial>
        <!-- Part d_shaft_lower_motor -->
        <visual>
            <origin xyz="0 0 -4.33681e-19" rpy="7.08742e-32 2.01837e-31 0"/>
            <geometry>
                <mesh filename="package://catbot_pybullet/meshes/d_shaft_lower_motor.stl"/>
            </geometry>
            <material name="d_shaft_lower_motor_material">
                <color rgba="0.498039 0.498039 0.498039 1.0"/>
            </material>
        </visual>
        <collision>
            <origin xyz="0 0 -4.33681e-19" rpy="7.08742e-32 2.01837e-31 0"/>
            <geometry>
                <mesh filename="package://catbot_pybullet/meshes/d_shaft_lower_motor.stl"/>
            </geometry>
        </collision>
    </link>
    <!-- Joint from lower_to_upper_thigh_connector to lower_to_upper_thigh_connector_d_shaft_lower_motor -->
    <joint name="lower_to_upper_thigh_connector_d_shaft_lower_motor_fixed" type="fixed">
        <origin xyz="0 0 0.0334109" rpy="5.77848e-17 -4.93476e-16 0"/>
        <parent link="lower_to_upper_thigh_connector"/>
        <child link="lower_to_upper_thigh_connector_d_shaft_lower_motor"/>
        <axis xyz="0 0 1"/>
        <limit effort="10" velocity="10"/>
    </joint>
    <!-- Link lower_to_upper_thigh_connector_pins_3 -->
    <link name="lower_to_upper_thigh_connector_pins_3">
        <inertial>
            <origin xyz="-2.09712e-35 -0.0105 3.77784e-19" rpy="0 0 0"/>
            <mass value="0.0115862"/>
            <inertia ixx="4.8246e-07" ixy="2.37871e-38" ixz="-2.67819e-23" iyy="1.29989e-07" iyz="1.73782e-38" izz="4.8246e-07"/>
        </inertial>
        <!-- Part pins_3 -->
        <visual>
            <origin xyz="0 0 0" rpy="-4.93038e-32 -0 4.93038e-32"/>
            <geometry>
                <mesh filename="package://catbot_pybullet/meshes/pins.stl"/>
            </geometry>
            <material name="pins_3_material">
                <color rgba="0.498039 0.498039 0.498039 1.0"/>
            </material>
        </visual>
        <collision>
            <origin xyz="0 0 0" rpy="-4.93038e-32 -0 4.93038e-32"/>
            <geometry>
                <mesh filename="package://catbot_pybullet/meshes/pins.stl"/>
            </geometry>
        </collision>
    </link>
    <!-- Joint from lower_to_upper_thigh_connector to lower_to_upper_thigh_connector_pins_3 -->
    <joint name="lower_to_upper_thigh_connector_pins_3_fixed" type="fixed">
        <origin xyz="-0.000995748 -0.060184 0.0329252" rpy="1.5708 -6.63175e-16 1.55604"/>
        <parent link="lower_to_upper_thigh_connector"/>
        <child link="lower_to_upper_thigh_connector_pins_3"/>
        <axis xyz="0 0 1"/>
        <limit effort="10" velocity="10"/>
    </joint>
    <!-- Link lower_to_upper_thigh_connector_lower_to_upper_thigh_connector -->
    <link name="lower_to_upper_thigh_connector_lower_to_upper_thigh_connector">
        <inertial>
            <origin xyz="0.0037237 -0.00357124 6.61797e-10" rpy="0 0 0"/>
            <mass value="0.0185659"/>
            <inertia ixx="1.99512e-06" ixy="1.65808e-14" ixz="-4.11269e-13" iyy="1.26869e-05" iyz="-1.75015e-15" izz="1.08503e-05"/>
        </inertial>
        <!-- Part lower_to_upper_thigh_connector -->
        <visual>
            <origin xyz="2.77556e-17 0 0" rpy="1.47911e-31 -0 0"/>
            <geometry>
                <mesh filename="package://catbot_pybullet/meshes/lower_to_upper_thigh_connector.stl"/>
            </geometry>
            <material name="lower_to_upper_thigh_connector_material">
                <color rgba="0.972549 0.529412 0.00392157 1.0"/>
            </material>
        </visual>
        <collision>
            <origin xyz="2.77556e-17 0 0" rpy="1.47911e-31 -0 0"/>
            <geometry>
                <mesh filename="package://catbot_pybullet/meshes/lower_to_upper_thigh_connector.stl"/>
            </geometry>
        </collision>
    </link>
    <!-- Joint from lower_to_upper_thigh_connector to lower_to_upper_thigh_connector_lower_to_upper_thigh_connector -->
    <joint name="lower_to_upper_thigh_connector_lower_to_upper_thigh_connector_fixed" type="fixed">
        <origin xyz="-0.000553083 -0.0301873 0.0259964" rpy="1.5708 -8.58882e-16 1.55604"/>
        <parent link="lower_to_upper_thigh_connector"/>
        <child link="lower_to_upper_thigh_connector_lower_to_upper_thigh_connector"/>
        <axis xyz="0 0 1"/>
        <limit effort="10" velocity="10"/>
    </joint>
    <!-- Joint from part_1 to lower_to_upper_thigh_connector -->
    <joint name="motor2" type="revolute">
        <origin xyz="0.0566635 0.0314074 0.227745" rpy="1.5708 -0.539689 -4.21394e-16"/>
        <parent link="part_1"/>
        <child link="lower_to_upper_thigh_connector"/>
        <axis xyz="0 0 1"/>
        <limit effort="50" velocity="50" lower="-3.141592653589793" upper="3.141592653589793"/>
        <joint_properties friction="0.0"/>
    </joint>
    <!-- Link part_1_part_1 -->
    <link name="part_1_part_1">
        <inertial>
            <origin xyz="0.0987877 0.0358361 0.0125" rpy="0 0 0"/>
            <mass value="3.46789"/>
            <inertia ixx="0.000195825" ixy="0" ixz="4.11394e-36" iyy="0.00104455" iyz="0" izz="0.00120425"/>
        </inertial>
        <!-- Part part_1 -->
        <visual>
            <origin xyz="0 0 0" rpy="0 -1.54113e-32 0"/>
            <geometry>
                <mesh filename="package://catbot_pybullet/meshes/part_1.stl"/>
            </geometry>
            <material name="part_1_material">
                <color rgba="1 1 1 1.0"/>
            </material>
        </visual>
        <collision>
            <origin xyz="0 0 0" rpy="0 -1.54113e-32 0"/>
            <geometry>
                <mesh filename="package://catbot_pybullet/meshes/part_1.stl"/>
            </geometry>
        </collision>
    </link>
    <!-- Joint from part_1 to part_1_part_1 -->
    <joint name="part_1_part_1_fixed" type="fixed">
        <origin xyz="0.0907012 0.0564074 0.263581" rpy="-1.5708 -4.85085e-10 -3.14159"/>
        <parent link="part_1"/>
        <child link="part_1_part_1"/>
        <axis xyz="0 0 1"/>
        <limit effort="10" velocity="10"/>
    </joint>
</robot>
